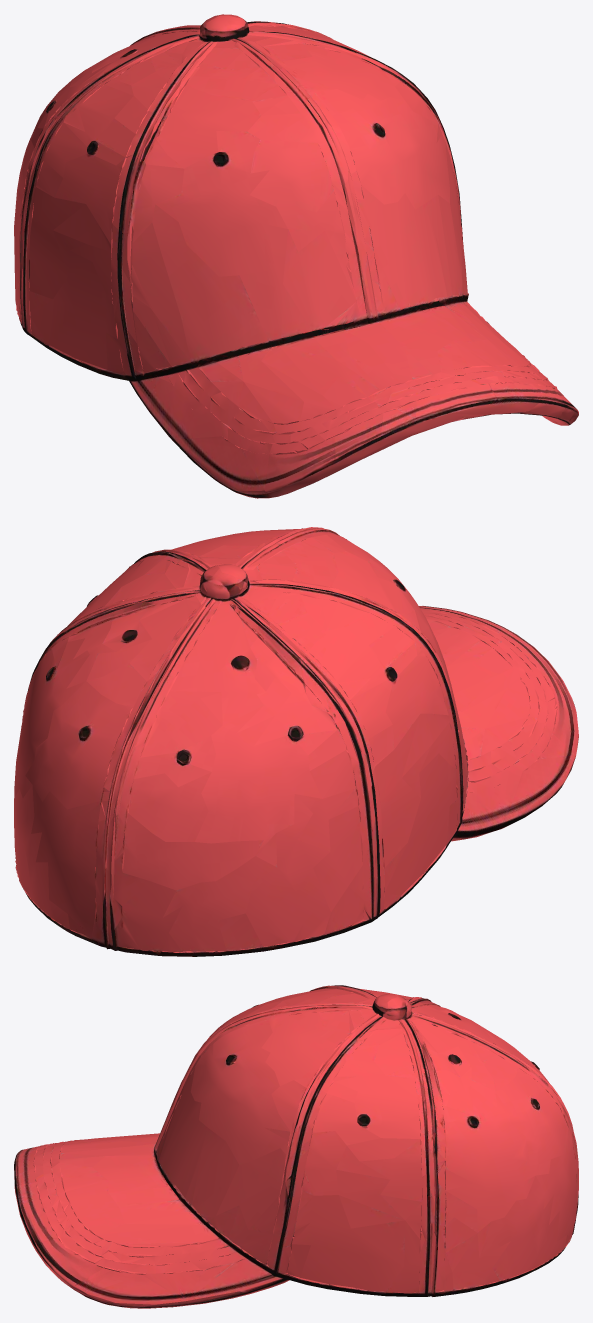
File: hat_cap.glb
3 renders of one model, top to bottom at view 1: azimuth 30°, elevation 25°; view 2: azimuth 150°, elevation 25°; view 3: azimuth 270°, elevation 25°, orthographic. The views are drawn at different scales.
Size of the model in its own units: 1.1 by 0.9332 by 1.9.
1 material, 1 textured.
